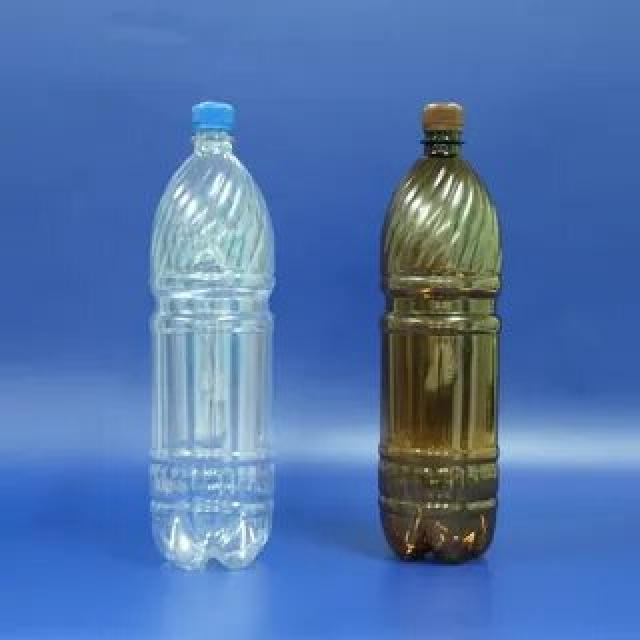brown: (383, 128, 497, 560)
